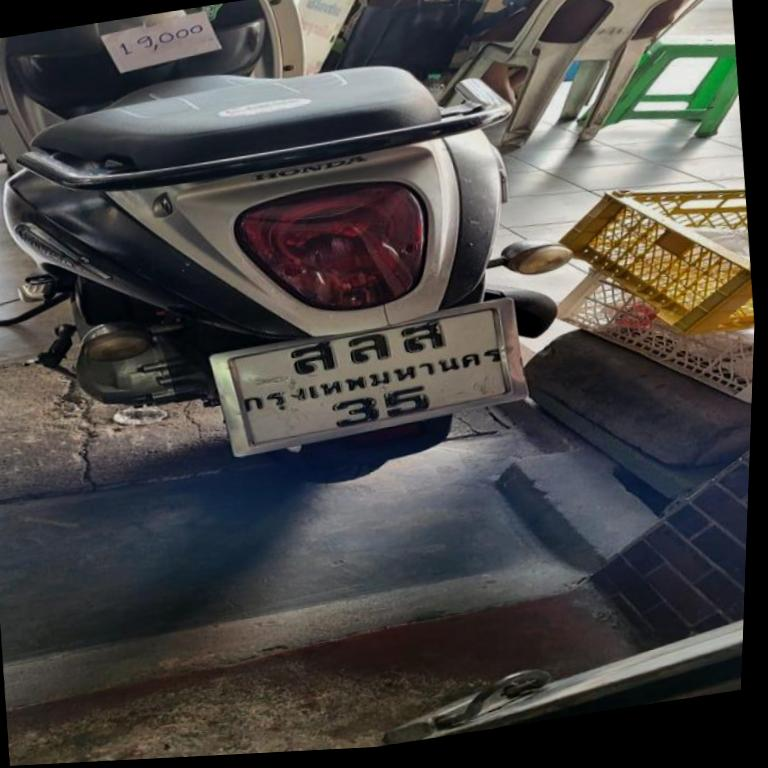license plate: (198, 296, 534, 470)
